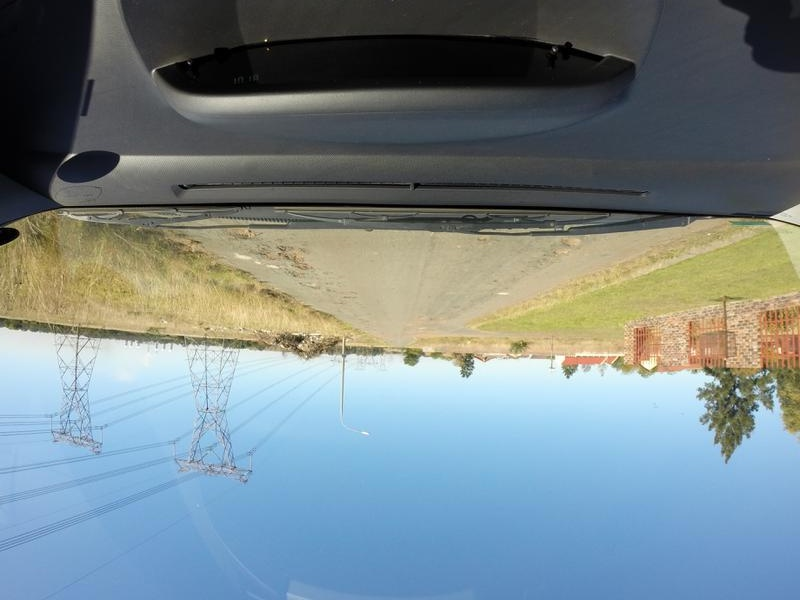pothole: (282, 251, 301, 271), (226, 227, 255, 237), (253, 241, 267, 260), (562, 235, 579, 245), (279, 246, 308, 251), (553, 247, 574, 252), (304, 283, 321, 288), (342, 295, 358, 300), (477, 236, 497, 240)
